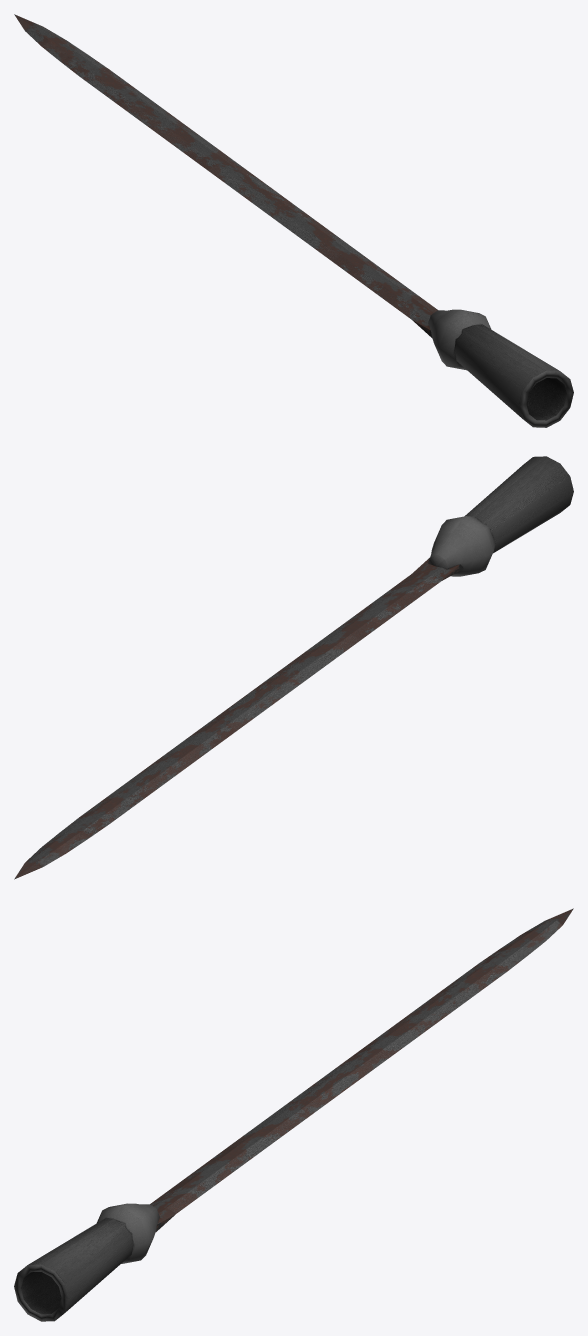
The model's file is dandpatta.glb.
The picture shows the model from 3 angles, top to bottom: view 1: azimuth 30°, elevation 25°; view 2: azimuth 150°, elevation 25°; view 3: azimuth 330°, elevation 25°; orthographic projection.
Visible parts, largest first — view 1: Cylinder_1, Cylinder.002_6, Cylinder.001_5; view 2: Cylinder_1, Cylinder.002_6, Cylinder.001_5; view 3: Cylinder_1, Cylinder.002_6, Cylinder.001_5.
Part boxes in pixels (x1=…): Cylinder_1: x1=14, y1=14, x2=437, y2=337; Cylinder.002_6: x1=454, y1=324, x2=573, y2=427; Cylinder.001_5: x1=428, y1=309, x2=491, y2=370; Cylinder_1: x1=14, y1=557, x2=463, y2=879; Cylinder.002_6: x1=465, y1=456, x2=573, y2=553; Cylinder.001_5: x1=428, y1=516, x2=495, y2=576; Cylinder_1: x1=150, y1=908, x2=573, y2=1231; Cylinder.002_6: x1=14, y1=1218, x2=133, y2=1321; Cylinder.001_5: x1=97, y1=1203, x2=159, y2=1263.
Bounding box in the file's own units: 0.1995 × 0.2025 × 3.35.
3 materials, 3 textured.
